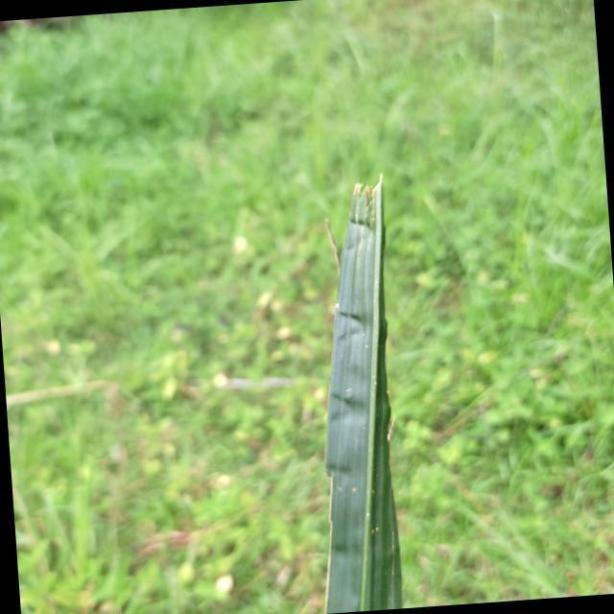Boron: (326, 160, 405, 614)
